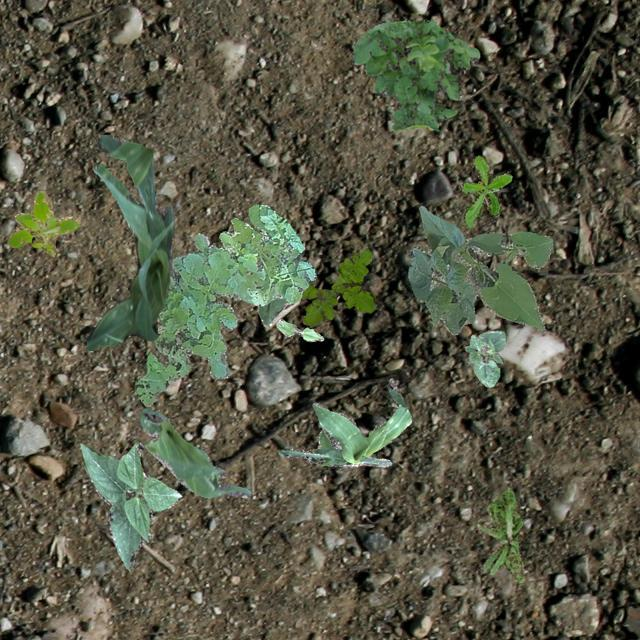crop: (85, 133, 174, 350), (406, 204, 552, 334), (78, 442, 180, 570), (276, 378, 411, 468), (138, 407, 250, 498), (464, 329, 504, 386), (276, 318, 322, 341), (256, 296, 286, 326)
weed: (134, 204, 316, 406), (350, 19, 478, 130), (300, 247, 374, 324), (6, 190, 78, 254), (476, 488, 522, 582), (460, 154, 510, 227)
